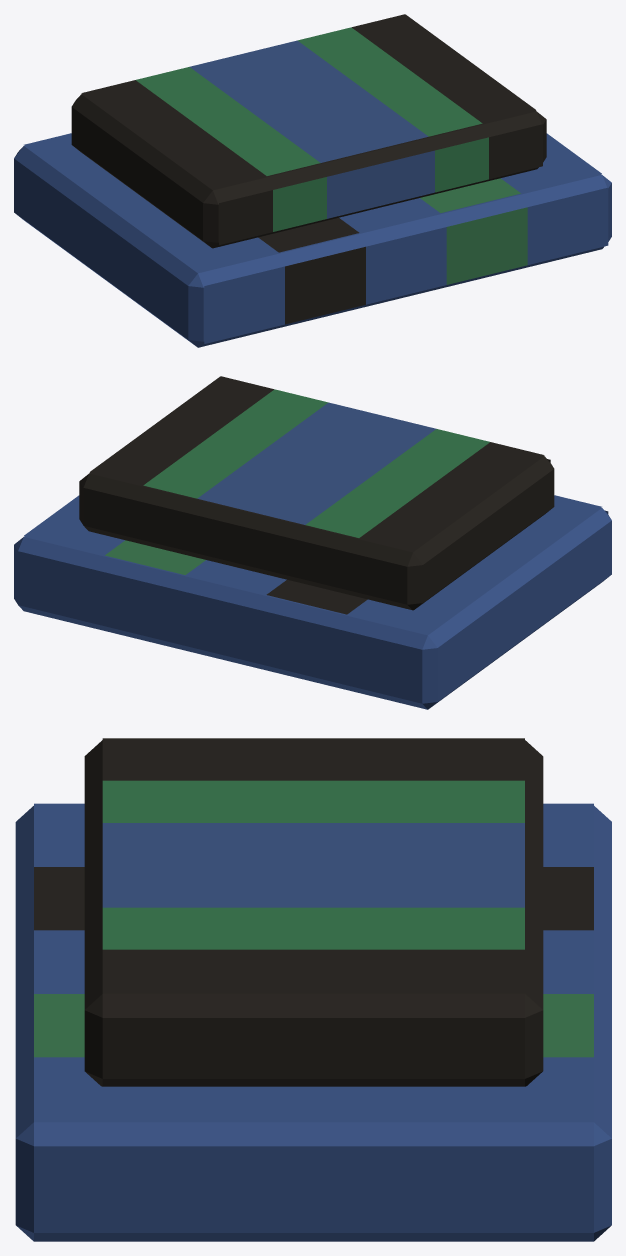
Rendered from kente-throw-roll-31.glb.
3 views of the same model, one above another, from view 1: azimuth 30°, elevation 25°; view 2: azimuth 150°, elevation 25°; view 3: azimuth 270°, elevation 25° (orthographic). The views are drawn at different scales.
Parts seen in each view (by area): view 1: kente_throw_roll_31; view 2: kente_throw_roll_31; view 3: kente_throw_roll_31.
Boxes of the visible parts, left/top/right/bottom form: kente_throw_roll_31: left=14, top=14, right=611, bottom=347; kente_throw_roll_31: left=14, top=376, right=611, bottom=709; kente_throw_roll_31: left=15, top=738, right=611, bottom=1241.
Bounding box in the file's own units: 0.4334 × 0.1309 × 0.3298.
